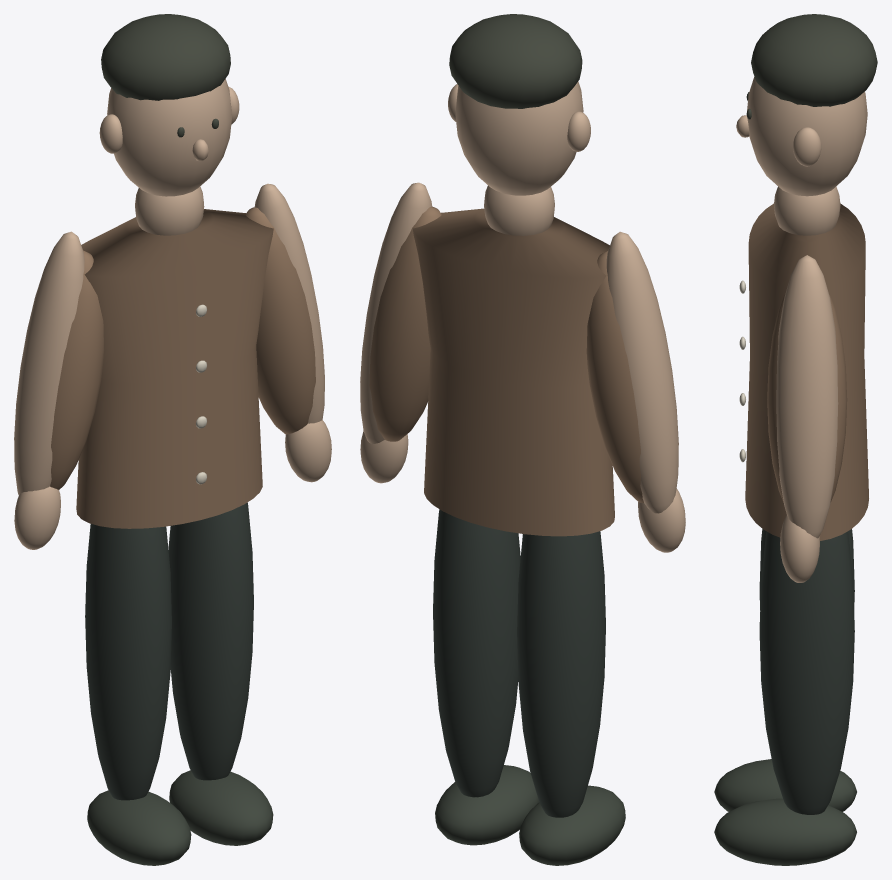
Rendered from look-4.glb.
3 views of the same model, side by side, from view 1: azimuth 30°, elevation 25°; view 2: azimuth 150°, elevation 25°; view 3: azimuth 270°, elevation 25° (orthographic). The views are drawn at different scales.
Bounding box in the file's own units: 0.7643 × 1.89 × 0.343.
